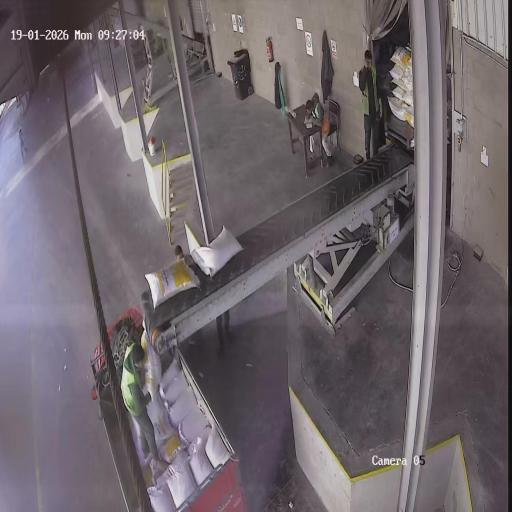c-belt-sack-count: (145, 259, 199, 309), (192, 226, 242, 277)
